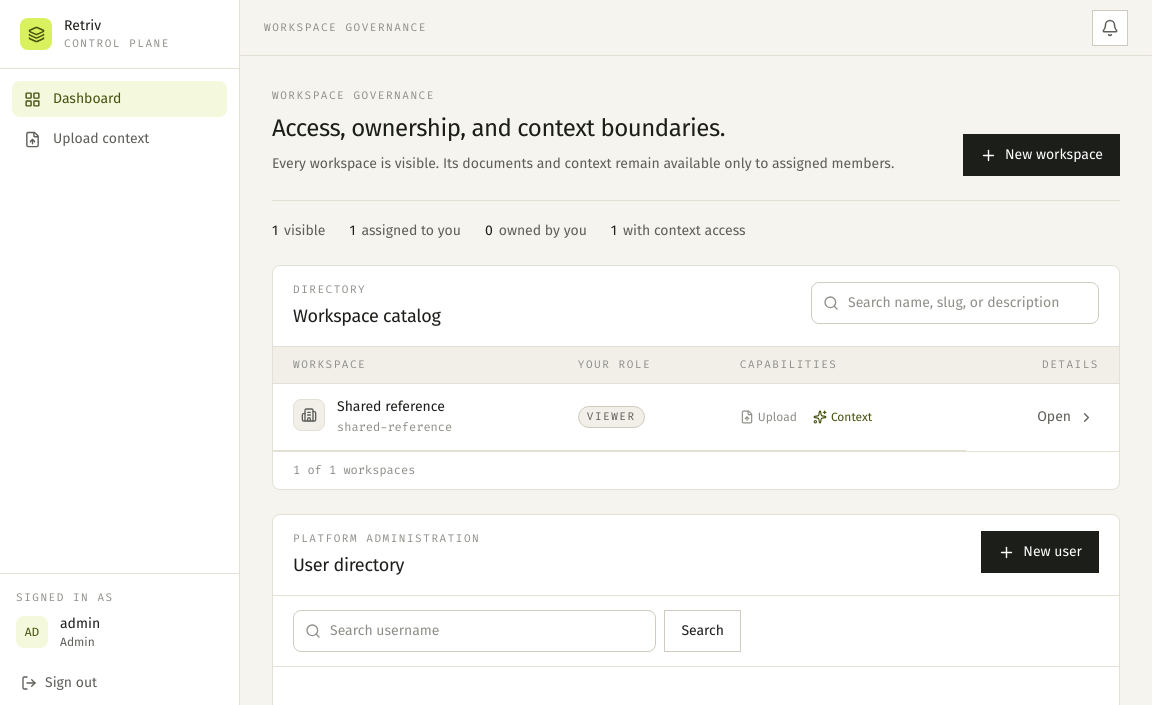
it: dashboard application › withholds the delete control from a workspace the role cannot delete in
Click the button "Open": [1066, 417] box [1032,396,1099,438]
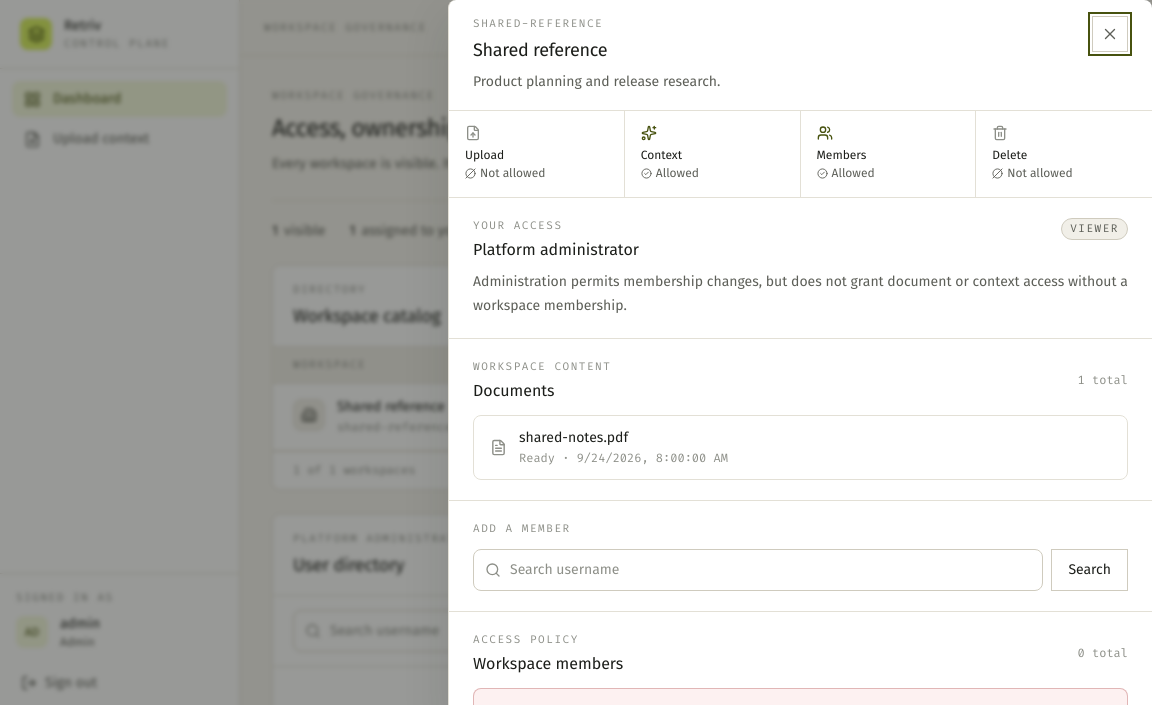
Expected: the text "shared-notes.pdf" is shown, [519,429,628,446]
